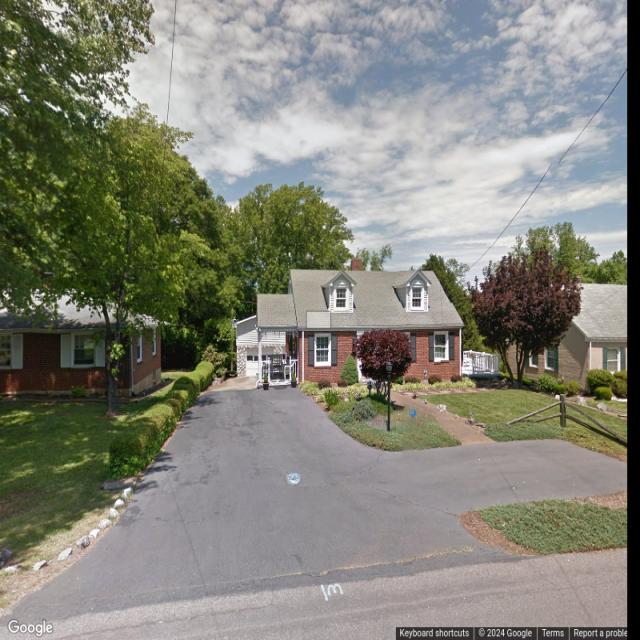House: (256, 259, 464, 391), (0, 288, 170, 401), (505, 284, 628, 398), (232, 316, 285, 376)
